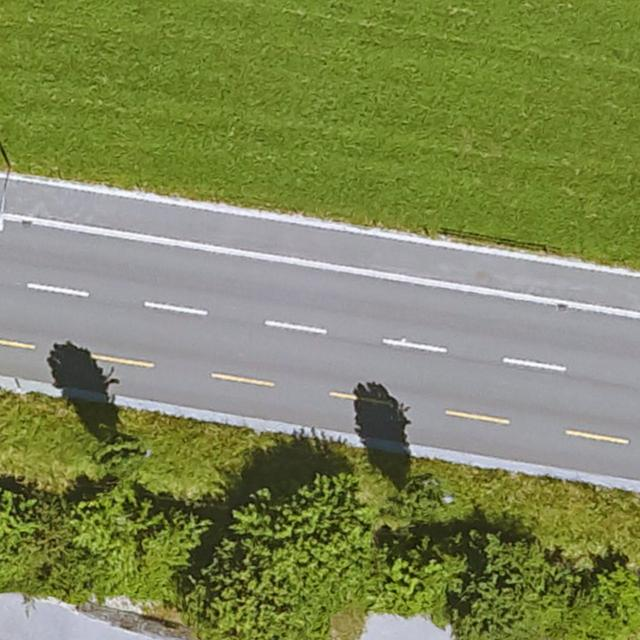tree: (229, 477, 371, 610), (56, 484, 199, 598), (179, 545, 329, 639), (448, 532, 543, 639), (0, 490, 64, 593), (376, 538, 453, 605), (96, 429, 145, 477), (595, 565, 640, 611), (400, 477, 443, 524), (537, 559, 579, 607)
